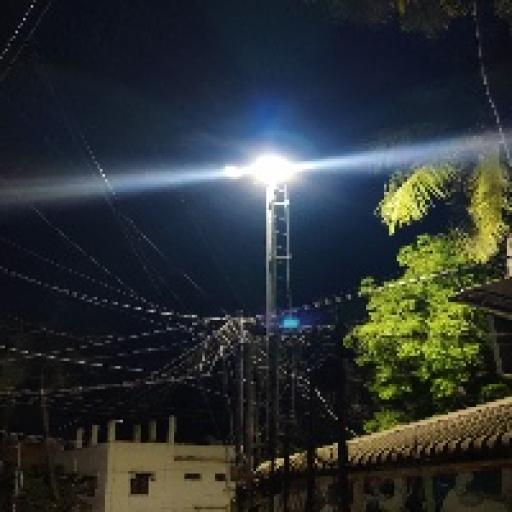Working: (238, 150, 308, 202)
